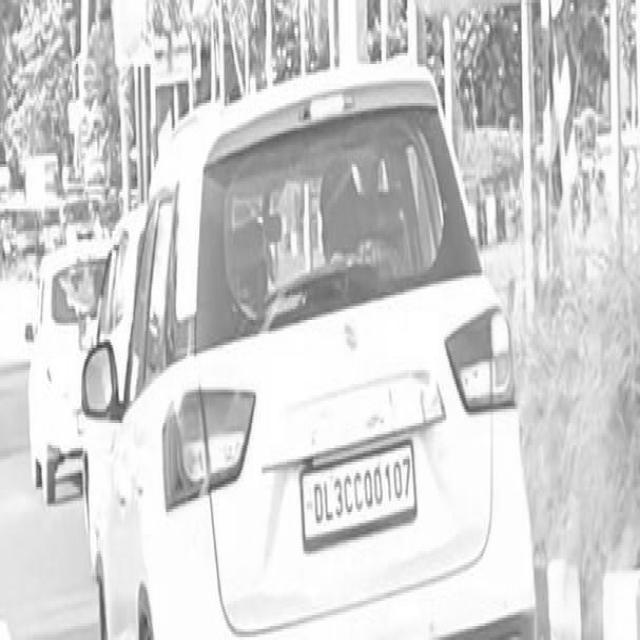car: (78, 58, 539, 629), (300, 437, 418, 548)
